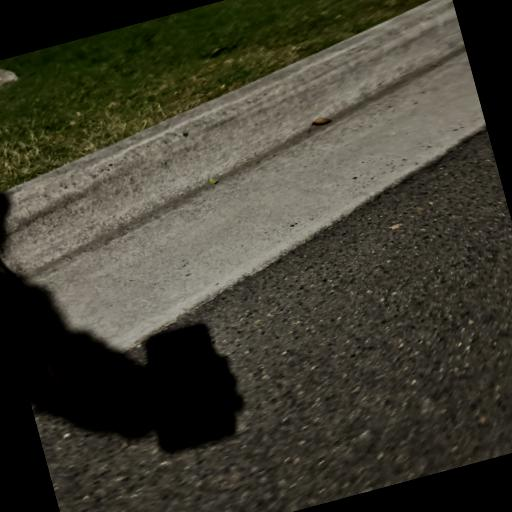kerb: (0, 0, 485, 350)
